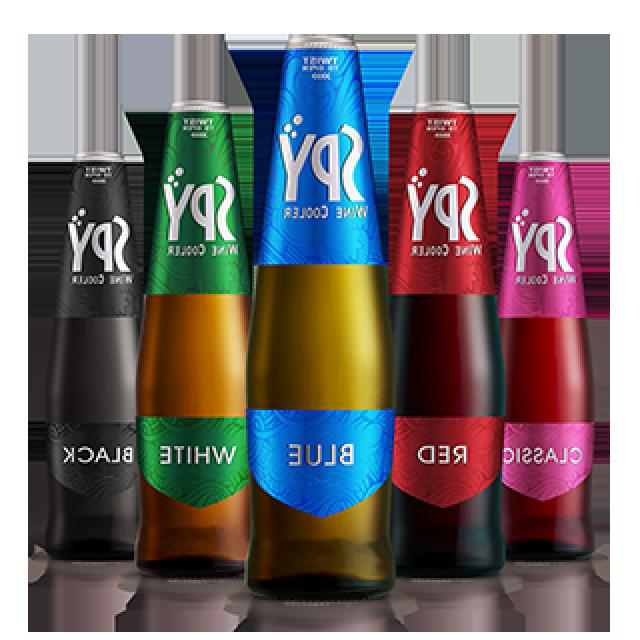glass: (244, 31, 384, 601), (386, 97, 506, 583), (132, 97, 249, 579), (40, 146, 139, 566), (496, 151, 592, 560)
